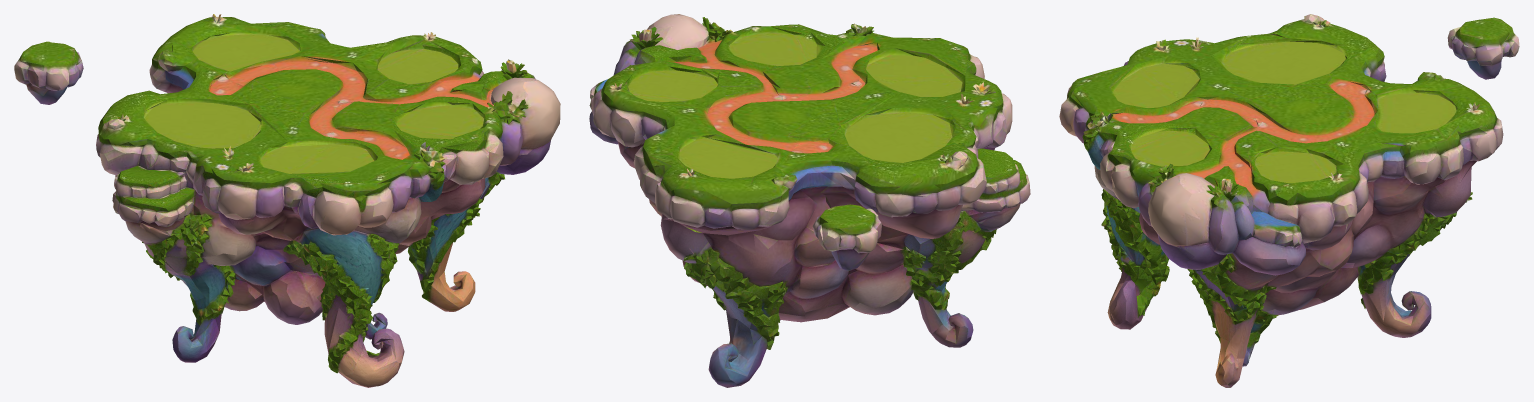
The model's file is whimsy-isle-mobile-gpu.glb.
3 views of the same model, side by side, from view 1: azimuth 30°, elevation 25°; view 2: azimuth 150°, elevation 25°; view 3: azimuth 270°, elevation 25° (orthographic). The views are drawn at different scales.
Visible parts, largest first — view 1: output_unwrapped; view 2: output_unwrapped; view 3: output_unwrapped.
Boxes of the visible parts, x1,y1,x2,y2 form: output_unwrapped: (14, 14, 560, 387); output_unwrapped: (589, 14, 1030, 387); output_unwrapped: (1059, 14, 1519, 387).
Size of the model in its own units: 1.9 by 1.1 by 1.86.
Materials: 1 (1 with a texture image).
